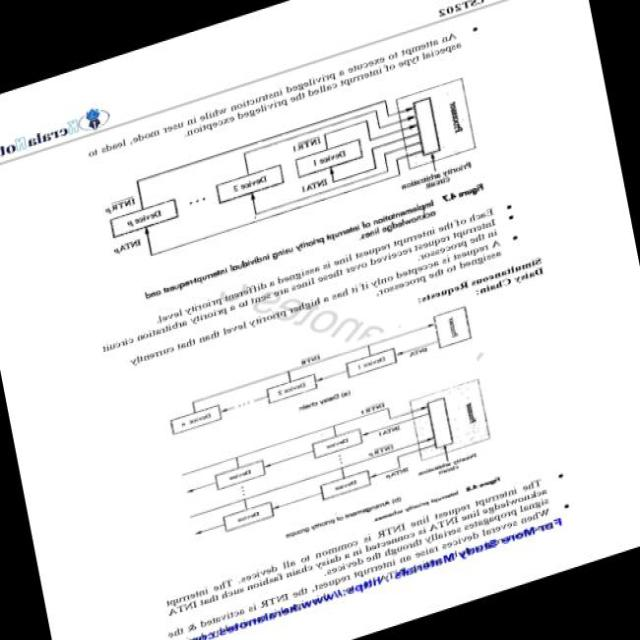Figure Detection - v3 Dataset Version2: (151, 296, 510, 577), (86, 60, 499, 298)
